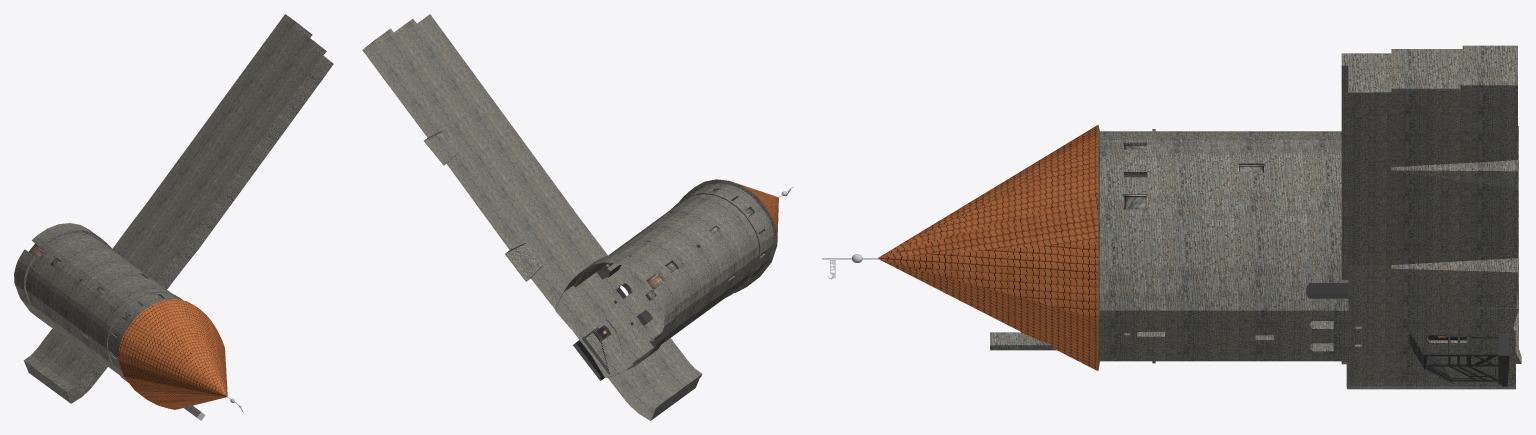
File: Laboratooriumi_27.obj
The picture shows the model from 3 angles, left to right: view 1: azimuth 30°, elevation 25°; view 2: azimuth 150°, elevation 25°; view 3: azimuth 270°, elevation 25°; orthographic projection. The views are drawn at different scales.
Parts seen in each view (by area): view 1: Laboratooriumi_27; view 2: Laboratooriumi_27; view 3: Laboratooriumi_27.
Part boxes in pixels (x1,y1,x2,y2): Laboratooriumi_27: (14, 14, 333, 420); Laboratooriumi_27: (362, 14, 793, 420); Laboratooriumi_27: (822, 45, 1521, 389).
Bounding box in the file's own units: 36.05 × 35.79 × 38.33.
